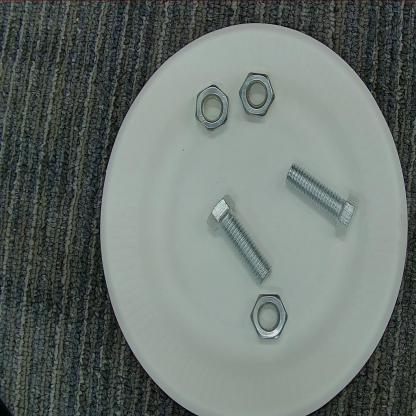FOD: (204, 188, 276, 288), (281, 158, 363, 237), (248, 294, 291, 343), (193, 82, 232, 134), (238, 71, 276, 117)
